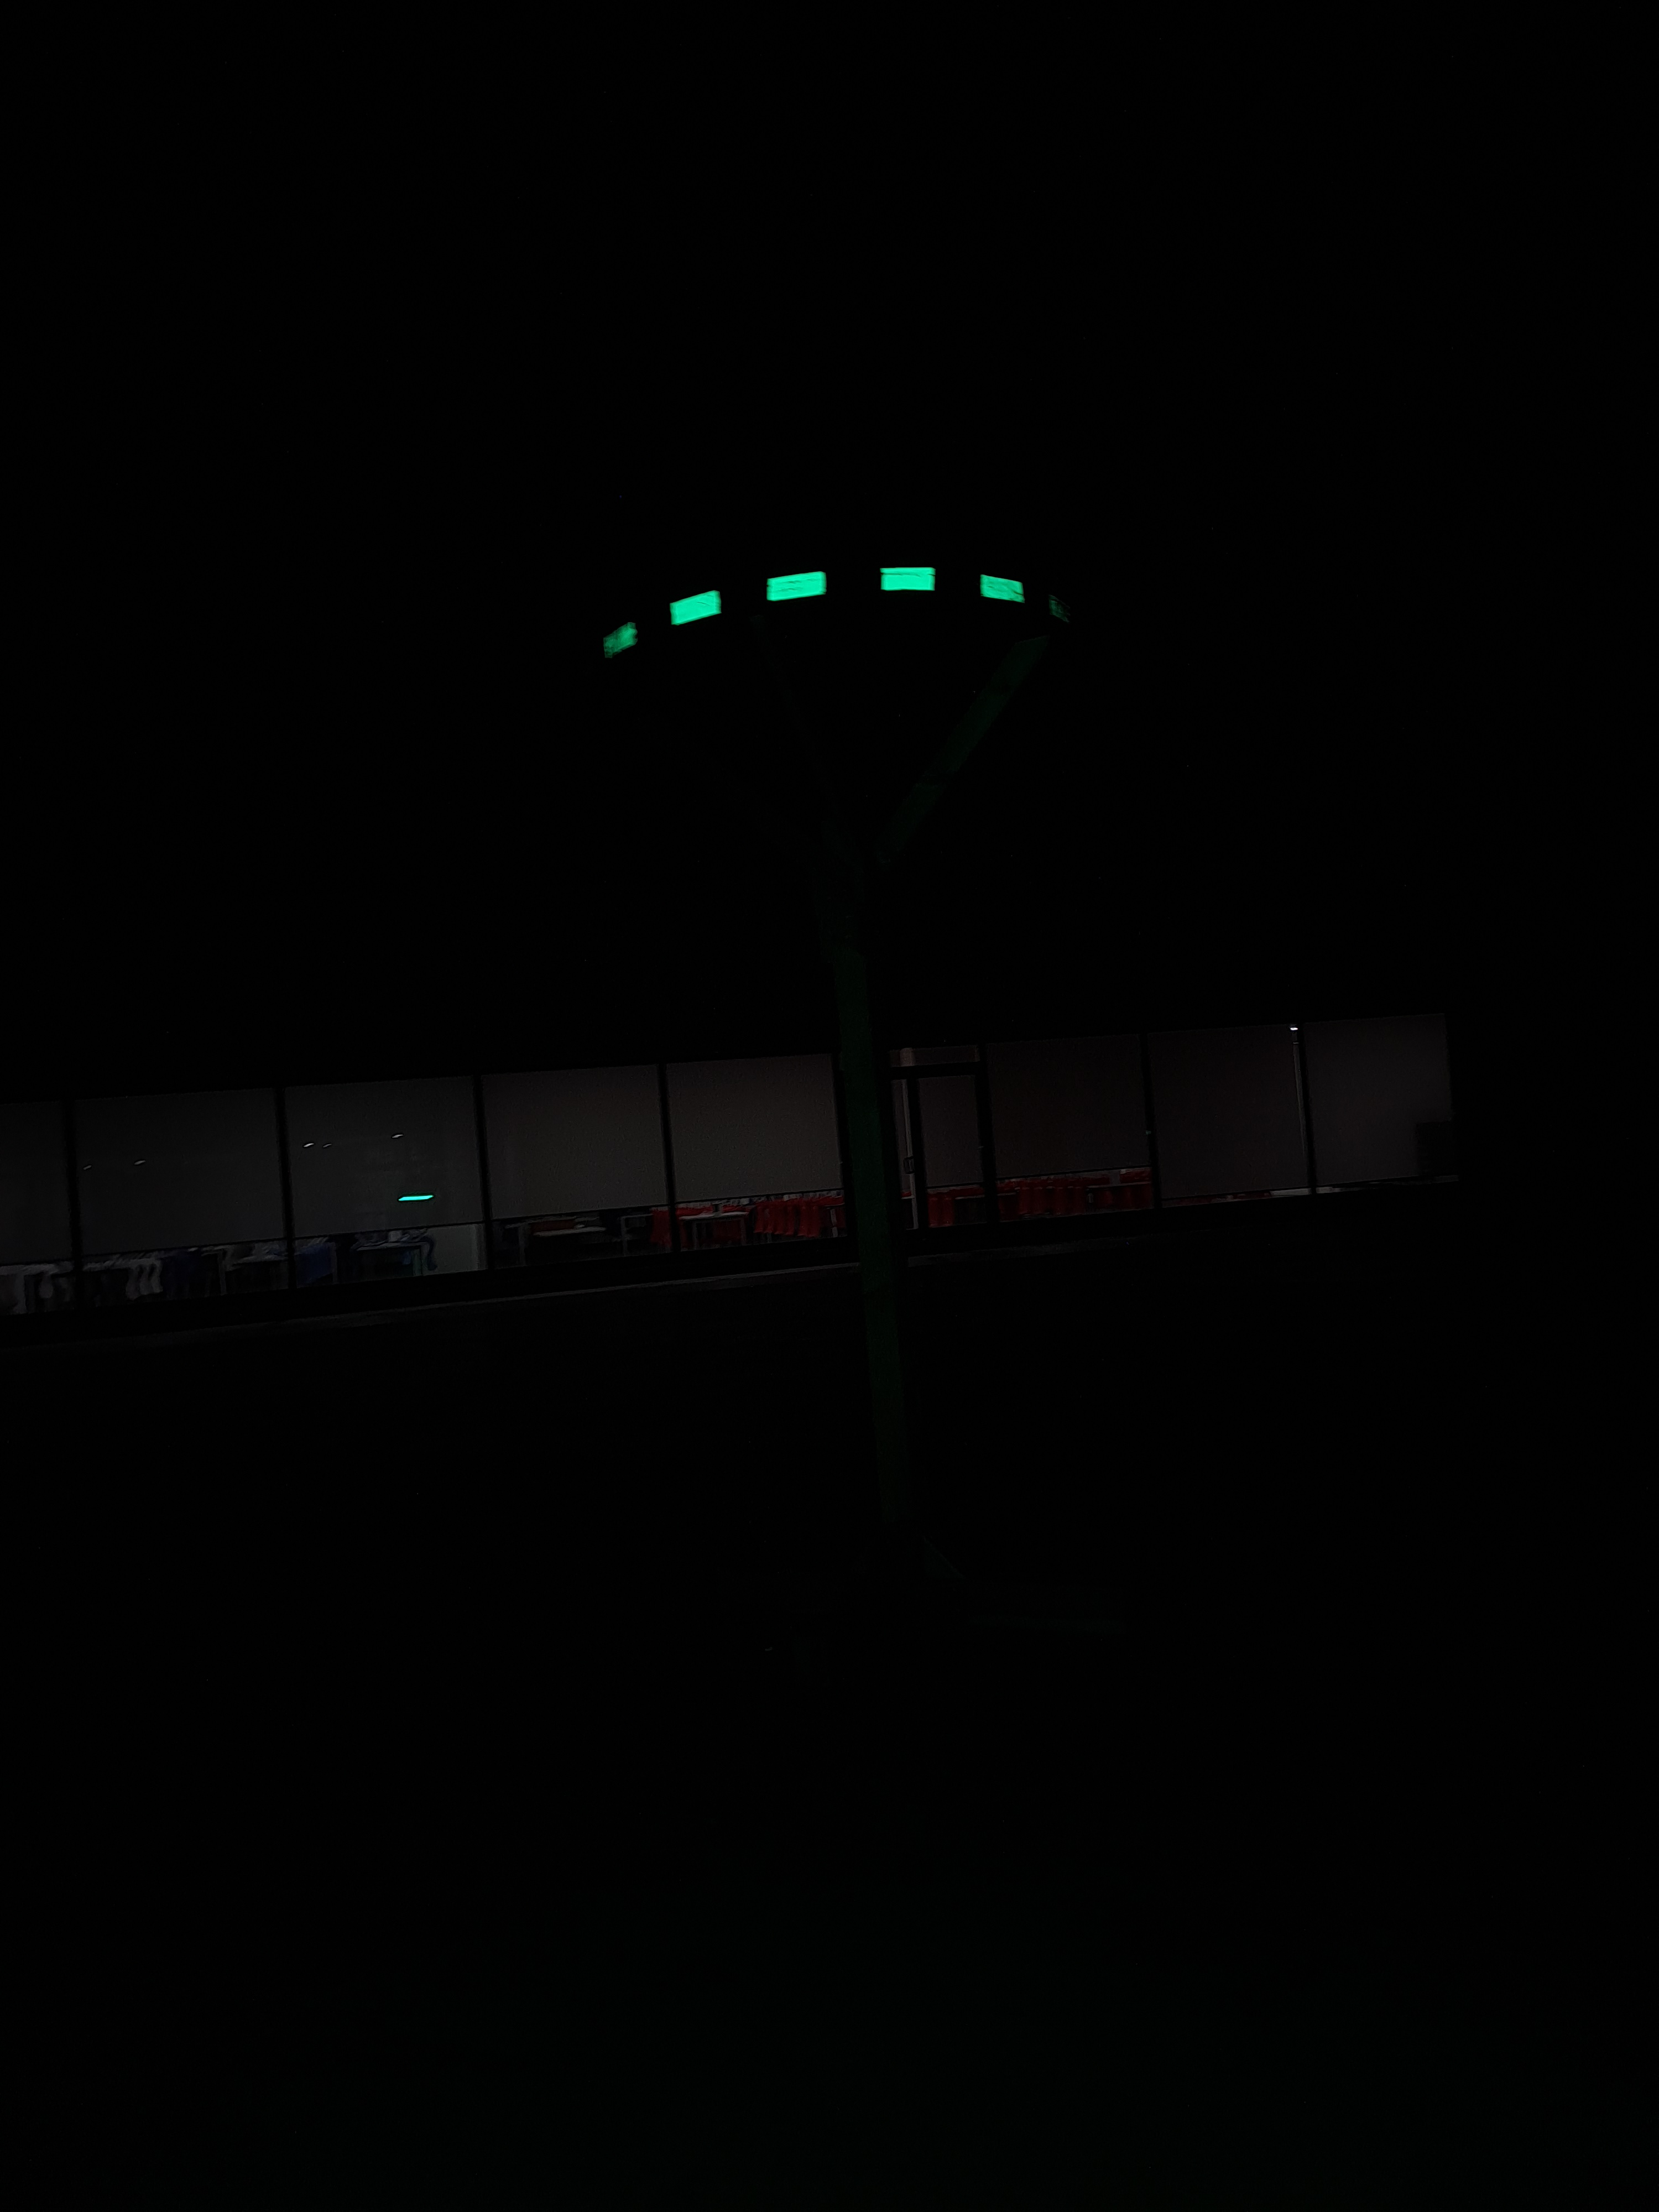hoop: (568, 545, 1082, 667)
